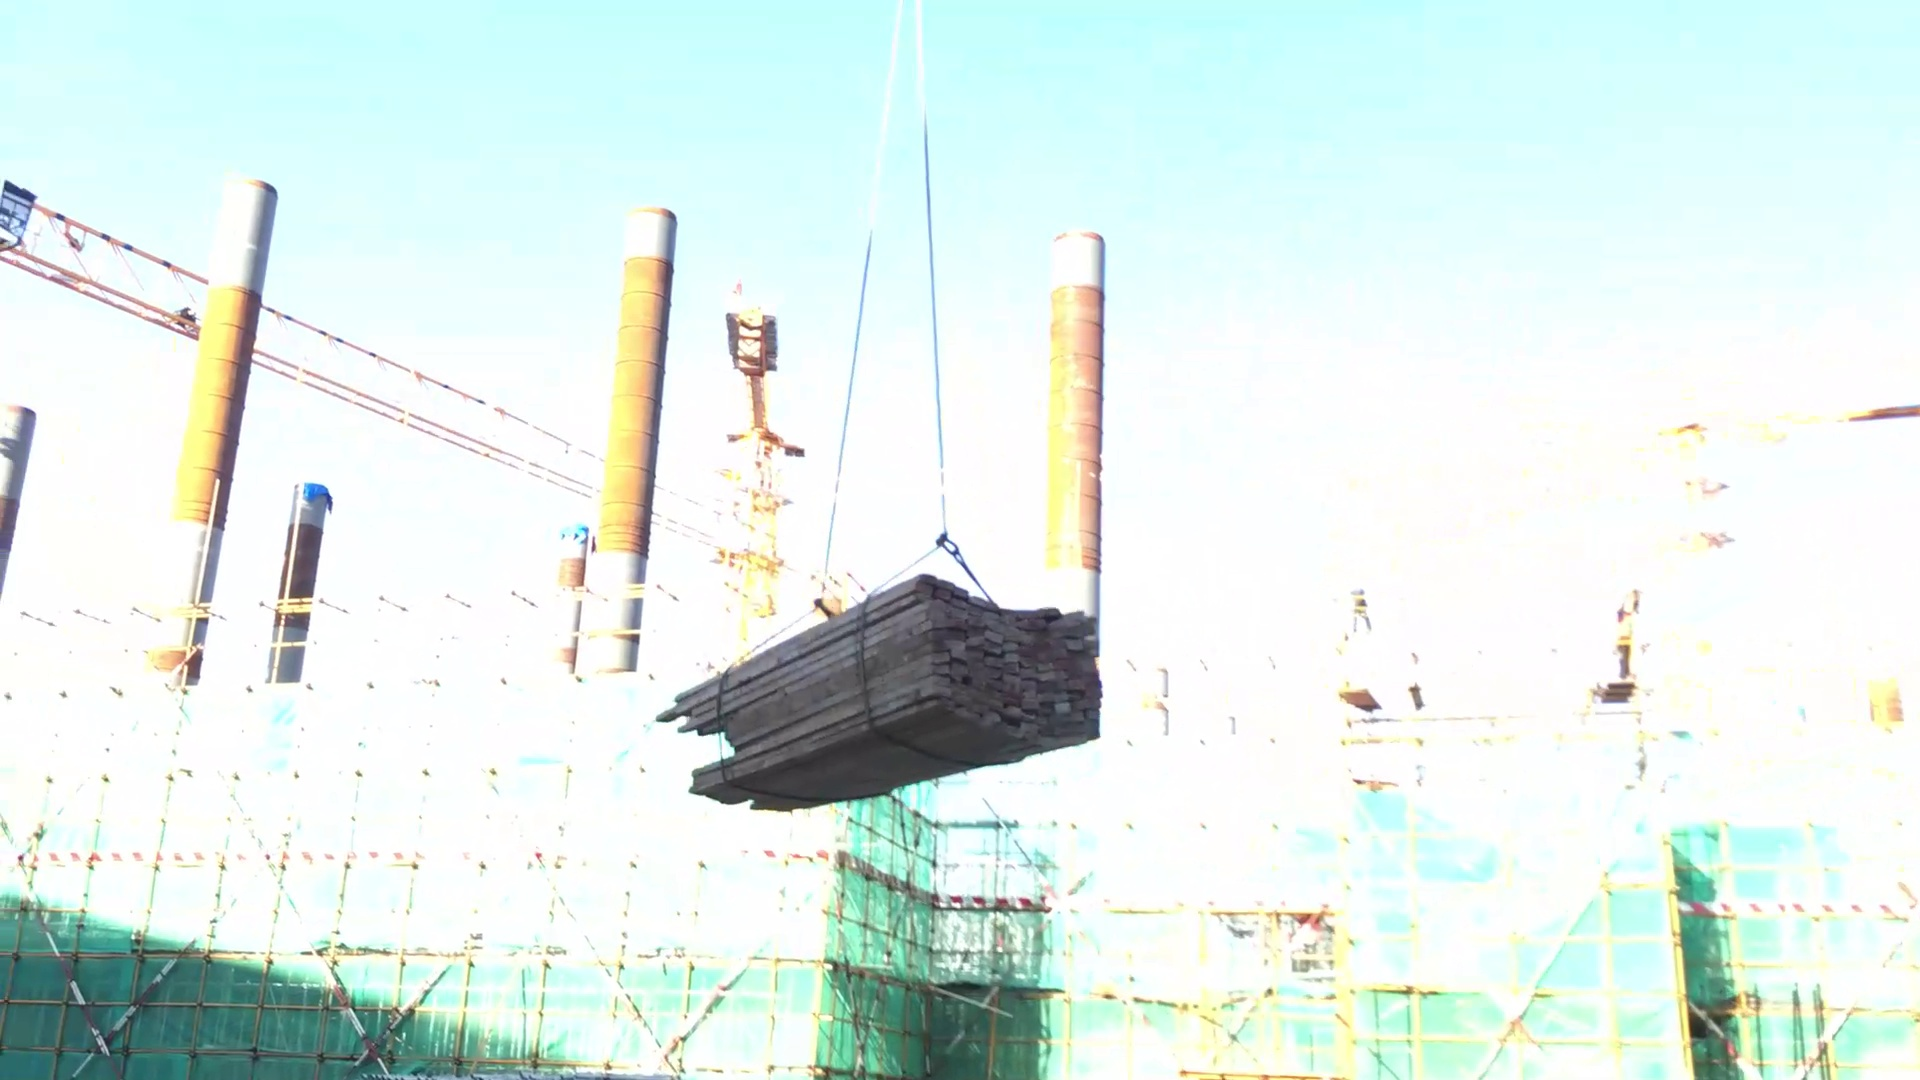wood: (649, 563, 1097, 815)
